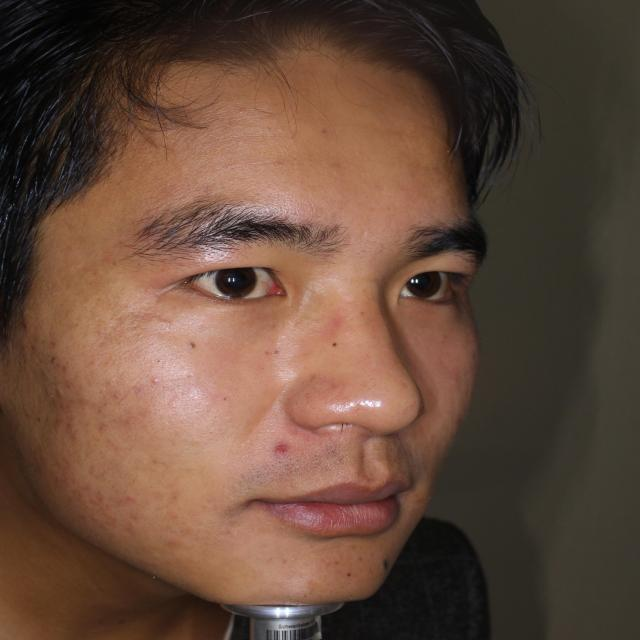pustule: (57, 414, 86, 445), (94, 373, 126, 401), (43, 455, 68, 486), (111, 491, 136, 516), (44, 347, 65, 374), (265, 438, 292, 456)
